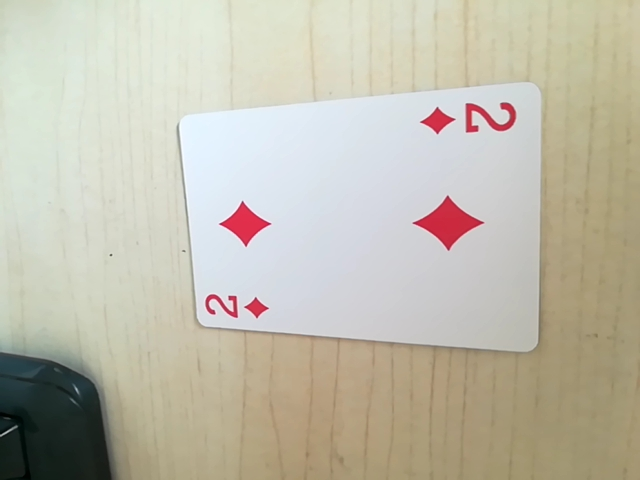fk 2: (418, 95, 525, 144), (200, 286, 274, 327)
